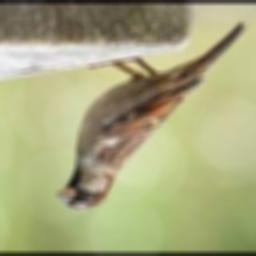Sparrow: (56, 22, 249, 208)
